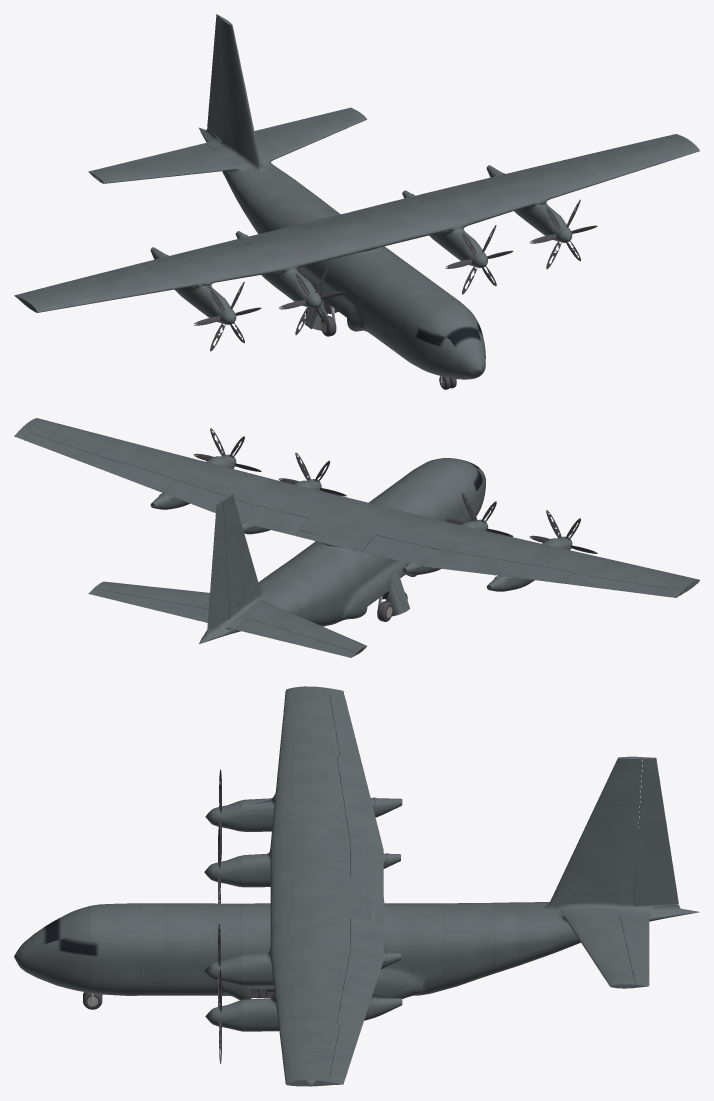
The picture shows the model from 3 angles, top to bottom: view 1: azimuth 30°, elevation 25°; view 2: azimuth 150°, elevation 25°; view 3: azimuth 270°, elevation 25°; orthographic projection. The views are drawn at different scales.
Parts seen in each view (by area): view 1: fsim:section:nose, fsim:section:centre, fsim:section:left-wing, fsim:section:tail, fsim:section:right-wing, fsim:flaps (×2), fsim:elevator (×2), fsim:rudder, fsim:propeller:1, fsim:propeller:3, fsim:propeller:2, fsim:propeller:0; view 2: fsim:section:centre, fsim:section:left-wing, fsim:section:right-wing, fsim:section:tail, fsim:flaps (×2), fsim:section:nose, fsim:elevator (×2), fsim:aileron (×2), fsim:rudder, Right Main Gear Front door, fsim:propeller:3, fsim:propeller:2 (+2 smaller); view 3: fsim:section:nose, fsim:section:centre, fsim:section:tail, fsim:section:right-wing, fsim:section:left-wing, fsim:flaps (×2), fsim:rudder, fsim:aileron (×2), fsim:elevator.
Boxes of the visible parts, x1=… form: fsim:section:nose: x1=196, y1=206, x2=572, y2=379; fsim:section:centre: x1=150, y1=165, x2=555, y2=317; fsim:section:left-wing: x1=367, y1=134, x2=699, y2=241; fsim:section:tail: x1=93, y1=18, x2=366, y2=205; fsim:section:right-wing: x1=14, y1=225, x2=348, y2=312; fsim:flaps (×2): x1=113, y1=160, x2=572, y2=273; fsim:elevator (×2): x1=88, y1=107, x2=355, y2=176; fsim:rudder: x1=207, y1=14, x2=222, y2=140; fsim:propeller:1: x1=279, y1=265, x2=346, y2=334; fsim:propeller:3: x1=193, y1=281, x2=261, y2=351; fsim:propeller:2: x1=529, y1=199, x2=597, y2=269; fsim:propeller:0: x1=445, y1=225, x2=513, y2=294; fsim:section:centre: x1=150, y1=457, x2=560, y2=626; fsim:section:left-wing: x1=14, y1=418, x2=360, y2=533; fsim:section:right-wing: x1=363, y1=511, x2=699, y2=597; fsim:section:tail: x1=94, y1=493, x2=366, y2=654; fsim:flaps (×2): x1=113, y1=462, x2=572, y2=583; fsim:section:nose: x1=208, y1=454, x2=572, y2=576; fsim:elevator (×2): x1=88, y1=588, x2=356, y2=657; fsim:aileron (×2): x1=23, y1=433, x2=671, y2=596; fsim:rudder: x1=207, y1=500, x2=229, y2=630; Right Main Gear Front door: x1=385, y1=568, x2=409, y2=616; fsim:propeller:3: x1=530, y1=510, x2=597, y2=553; fsim:propeller:2: x1=194, y1=428, x2=261, y2=471; fsim:section:nose: x1=14, y1=798, x2=274, y2=1031; fsim:section:centre: x1=220, y1=795, x2=545, y2=1031; fsim:section:tail: x1=528, y1=756, x2=699, y2=988; fsim:section:right-wing: x1=269, y1=686, x2=386, y2=883; fsim:section:left-wing: x1=269, y1=896, x2=386, y2=1086; fsim:flaps (×2): x1=337, y1=756, x2=383, y2=1028; fsim:rudder: x1=633, y1=757, x2=678, y2=906; fsim:aileron (×2): x1=329, y1=694, x2=361, y2=1079; fsim:elevator: x1=619, y1=914, x2=649, y2=987.
Size of the model in its own units: 40.42 by 11.95 by 29.76.
6 materials, 1 textured.
